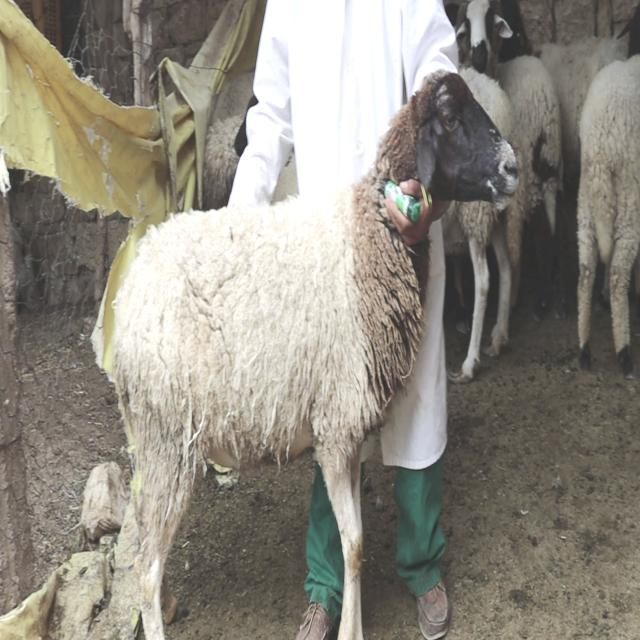Score_2: (112, 71, 518, 639)
